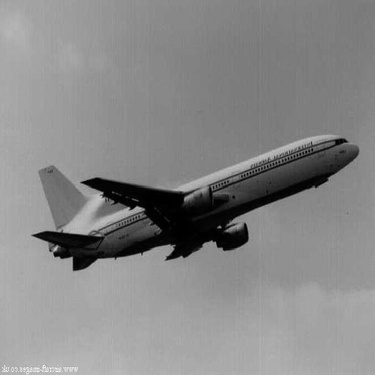airplane: (25, 92, 345, 287)
